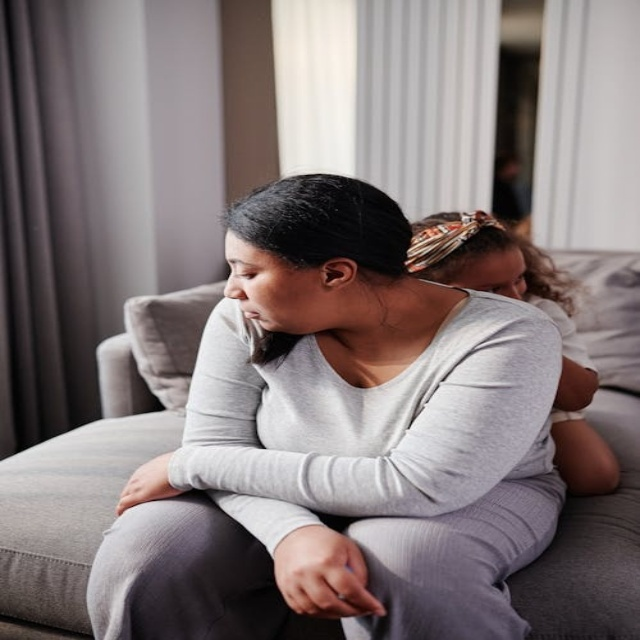Sin_gafas: (220, 249, 285, 282)
Sin_guantes: (279, 536, 385, 622)
Sin_mascara: (237, 300, 282, 332)
